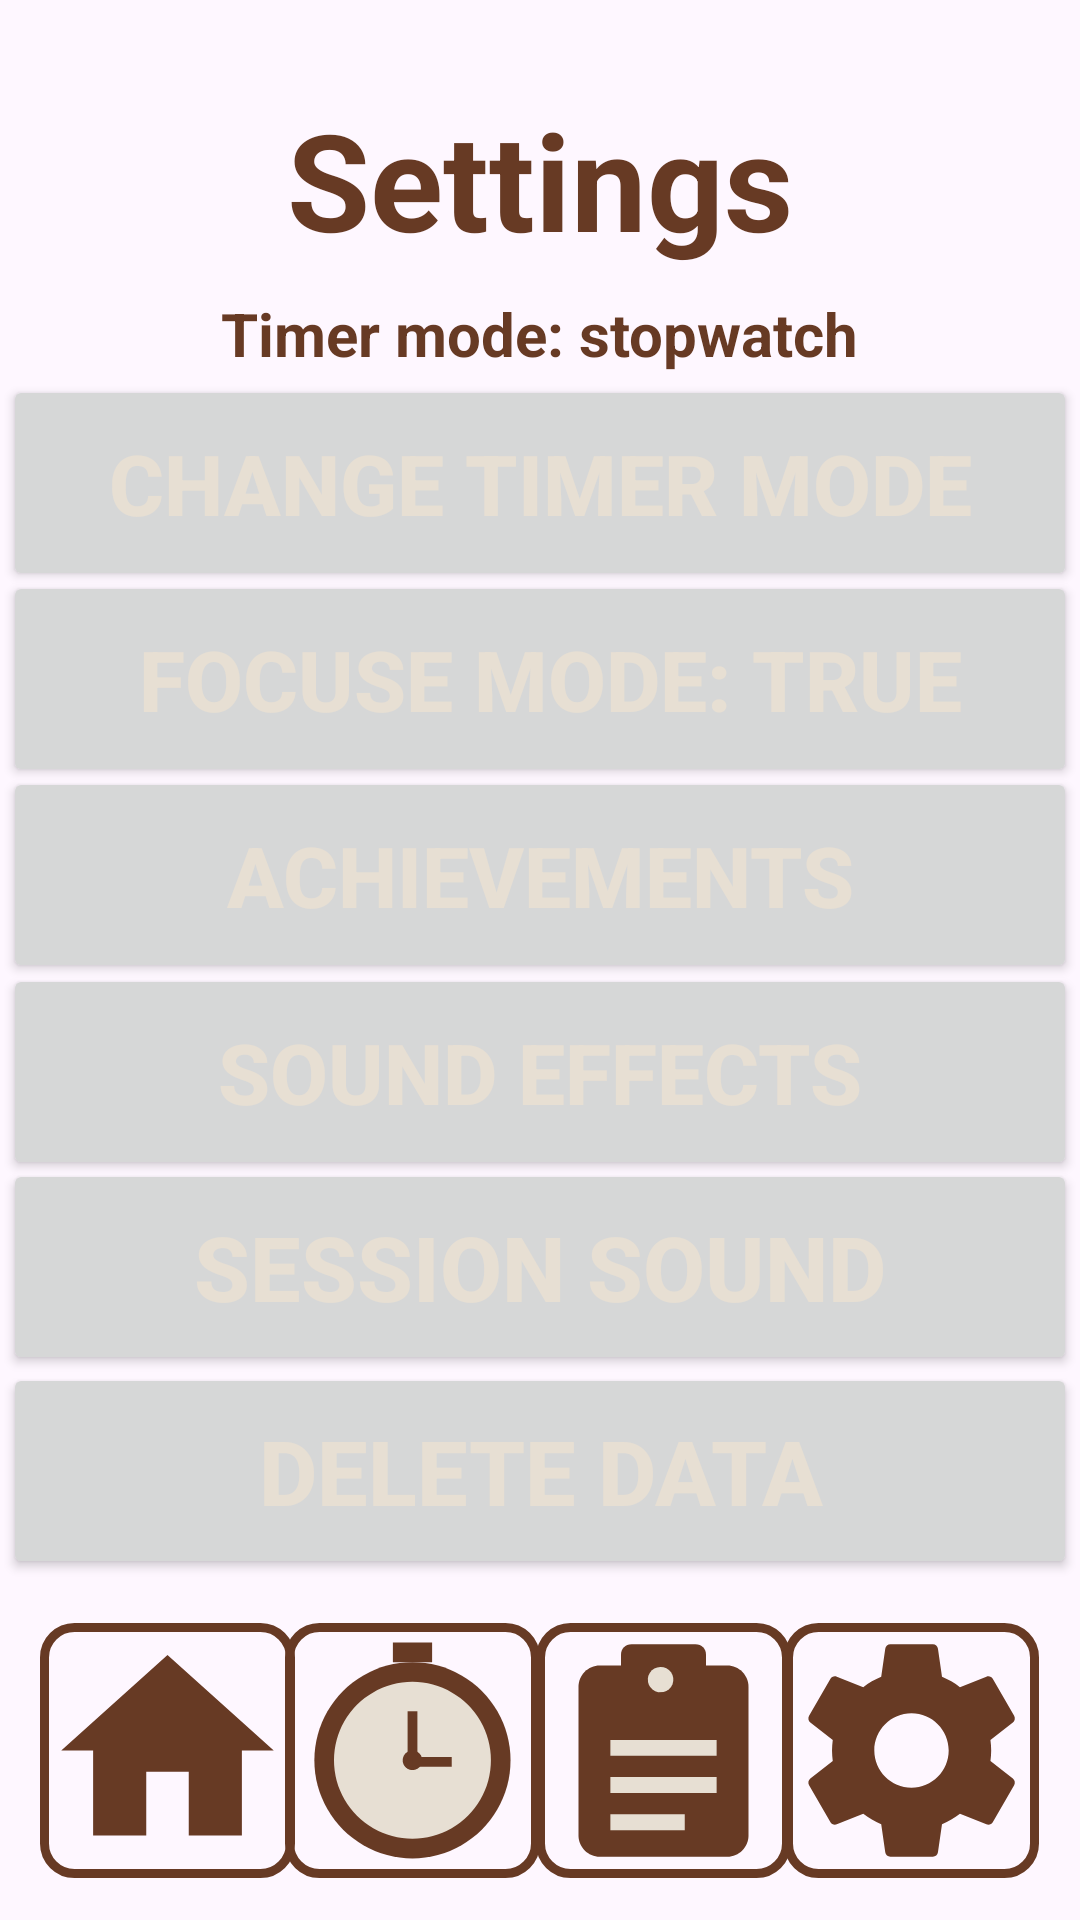

Locate icon controls on the screen. Image size 1080 x 1920, boxes as (x1, y1, x2, y2).
homebutton: (61, 1655, 274, 1836)
settingsbutton: (808, 1644, 1015, 1857)
